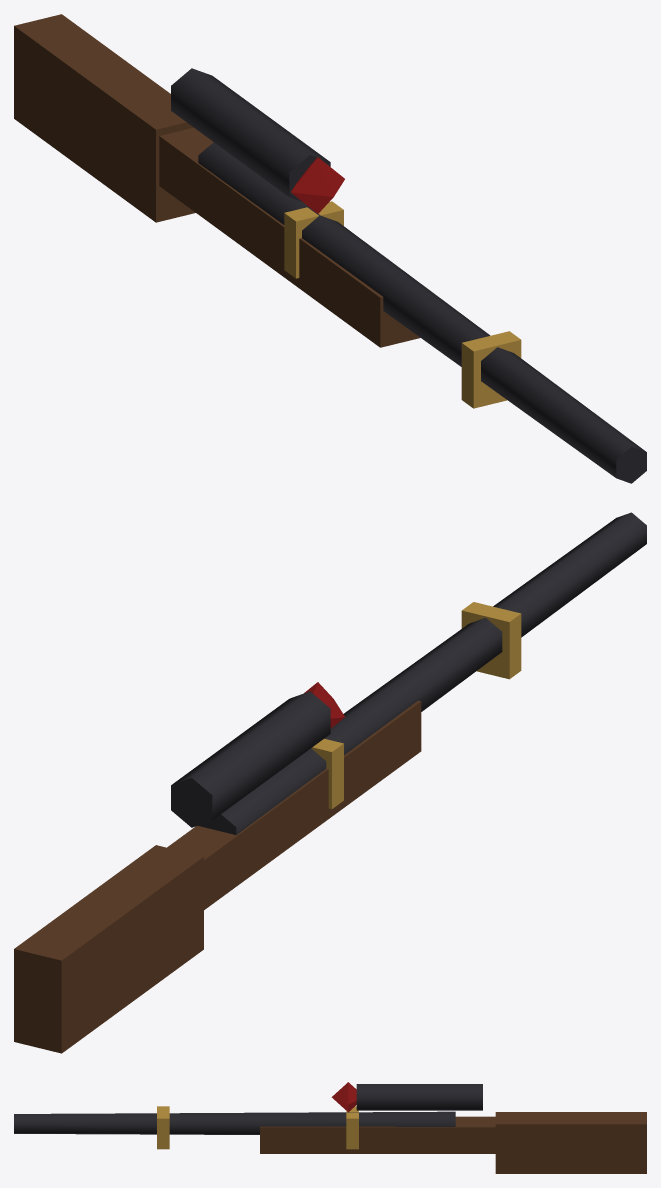
The model's file is BO_SM_EnemyWeapon_Musket_v001.glb.
3 renders of one model, top to bottom at view 1: azimuth 30°, elevation 25°; view 2: azimuth 150°, elevation 25°; view 3: azimuth 270°, elevation 25°, orthographic. The views are drawn at different scales.
Visible parts, largest first — view 1: body_000, body_002, body_001, body_005, body_004, body_003, glow_006; view 2: body_000, body_002, body_001, body_005, body_004, body_003; view 3: body_000, body_002, body_001, body_005, body_004, body_003, glow_006.
Boxes of the visible parts, bbox=[...] form: body_000: bbox=[14, 14, 195, 222]; body_002: bbox=[198, 142, 646, 483]; body_001: bbox=[159, 127, 420, 347]; body_005: bbox=[171, 68, 330, 202]; body_004: bbox=[461, 331, 521, 408]; body_003: bbox=[284, 201, 343, 278]; glow_006: bbox=[291, 157, 344, 213]; body_000: bbox=[14, 845, 203, 1053]; body_002: bbox=[198, 512, 646, 834]; body_001: bbox=[167, 700, 421, 909]; body_005: bbox=[171, 691, 330, 827]; body_004: bbox=[461, 602, 521, 679]; body_003: bbox=[311, 738, 343, 809]; body_000: bbox=[495, 1112, 646, 1173]; body_002: bbox=[14, 1111, 455, 1134]; body_001: bbox=[260, 1116, 495, 1153]; body_005: bbox=[356, 1084, 482, 1110]; body_004: bbox=[157, 1106, 169, 1149]; body_003: bbox=[346, 1106, 358, 1149]; glow_006: bbox=[331, 1082, 356, 1112].
Size of the model in its own units: 0.08 by 0.225 by 1.5.
